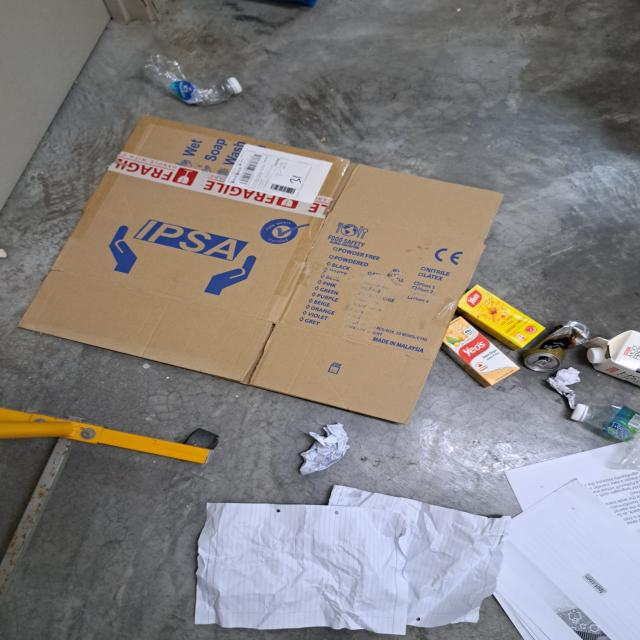can: (523, 321, 590, 372)
cardboard: (17, 114, 505, 425)
drink carton: (458, 284, 546, 352), (440, 317, 521, 387), (584, 329, 640, 387)
paper: (194, 501, 410, 636), (330, 485, 513, 628), (491, 478, 640, 632), (505, 438, 640, 514), (298, 422, 351, 475), (545, 367, 581, 409)
plastic bottle: (145, 55, 234, 105), (588, 404, 640, 469)
plastic bottle cap: (570, 404, 588, 422), (227, 77, 243, 95)
pop tab: (532, 360, 548, 368)
